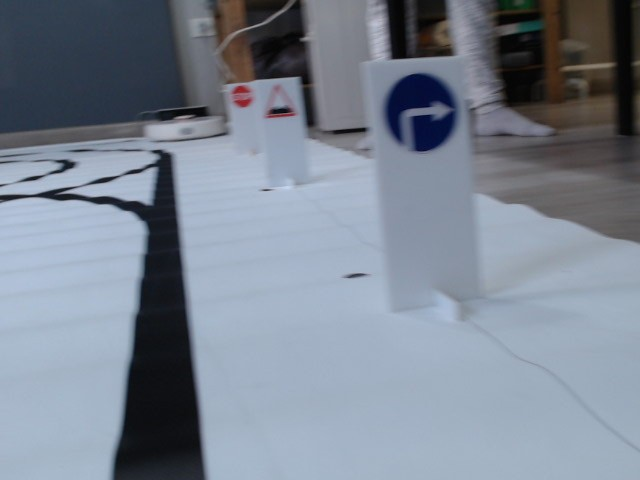Nerov: (264, 86, 296, 119)
Right: (384, 72, 455, 154)
